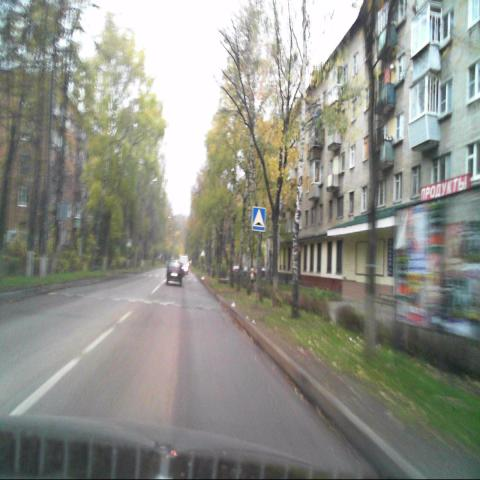5_20: (252, 207, 266, 231)
